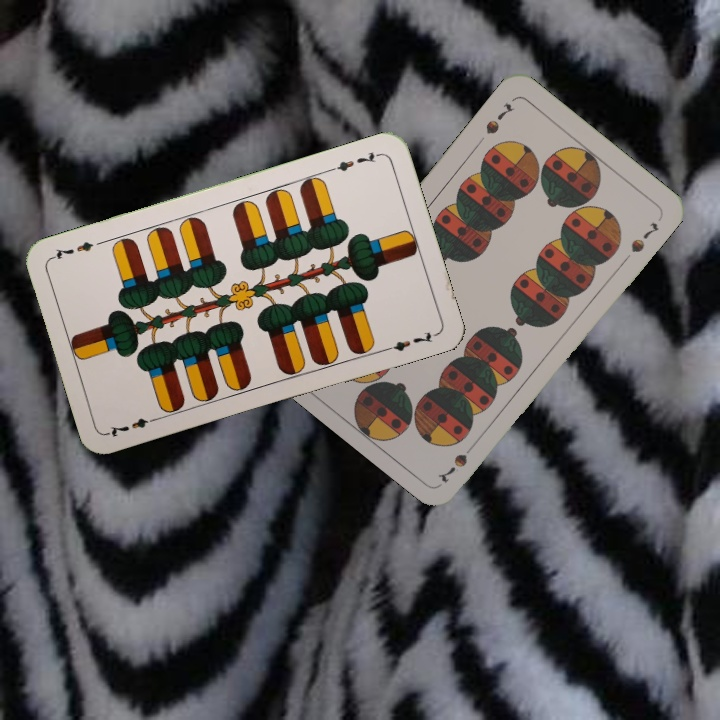E7: (104, 413, 162, 440), (326, 148, 383, 174)
S7: (434, 438, 480, 485), (481, 99, 518, 137)
